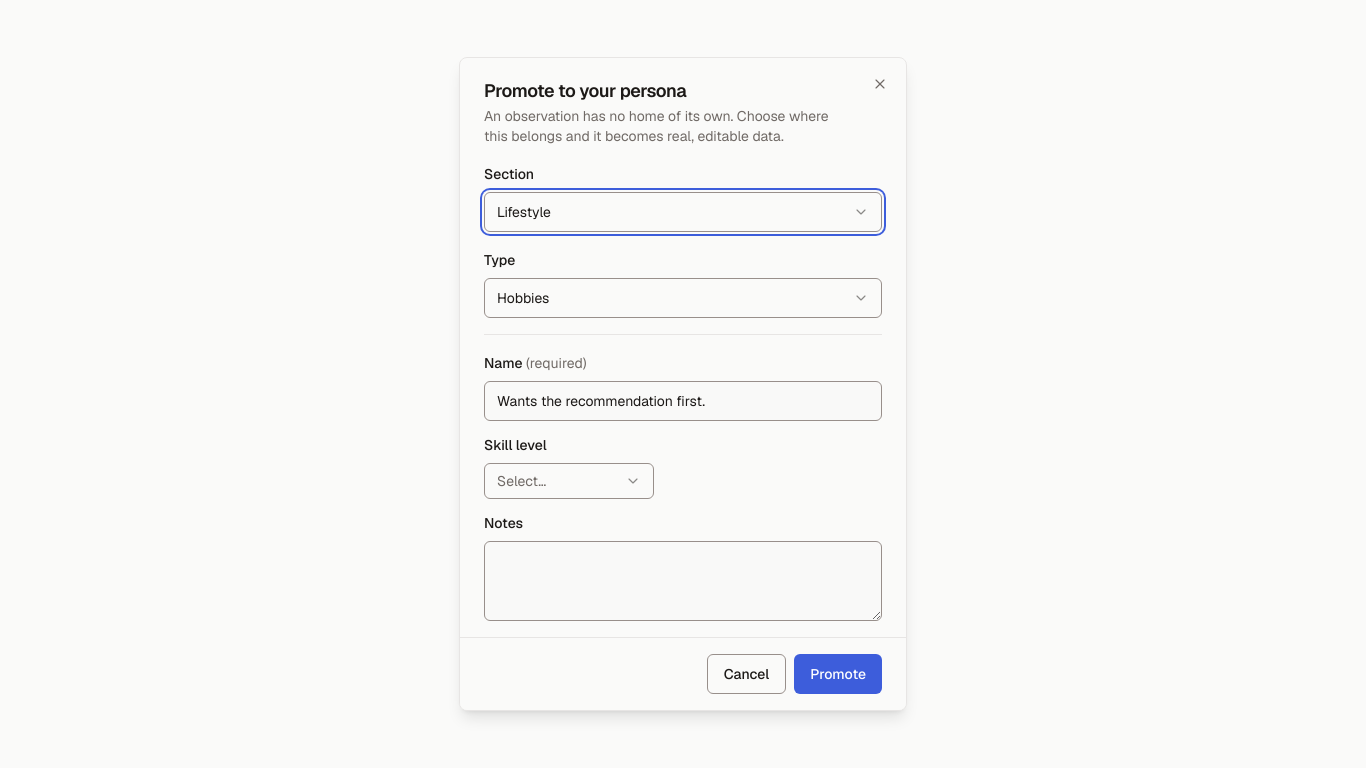
it: a Select inside the real Dialog › changing to a section with one type chooses it
Step 1. Click the dropdown named "section" → (524, 212), box [484,192,882,232]
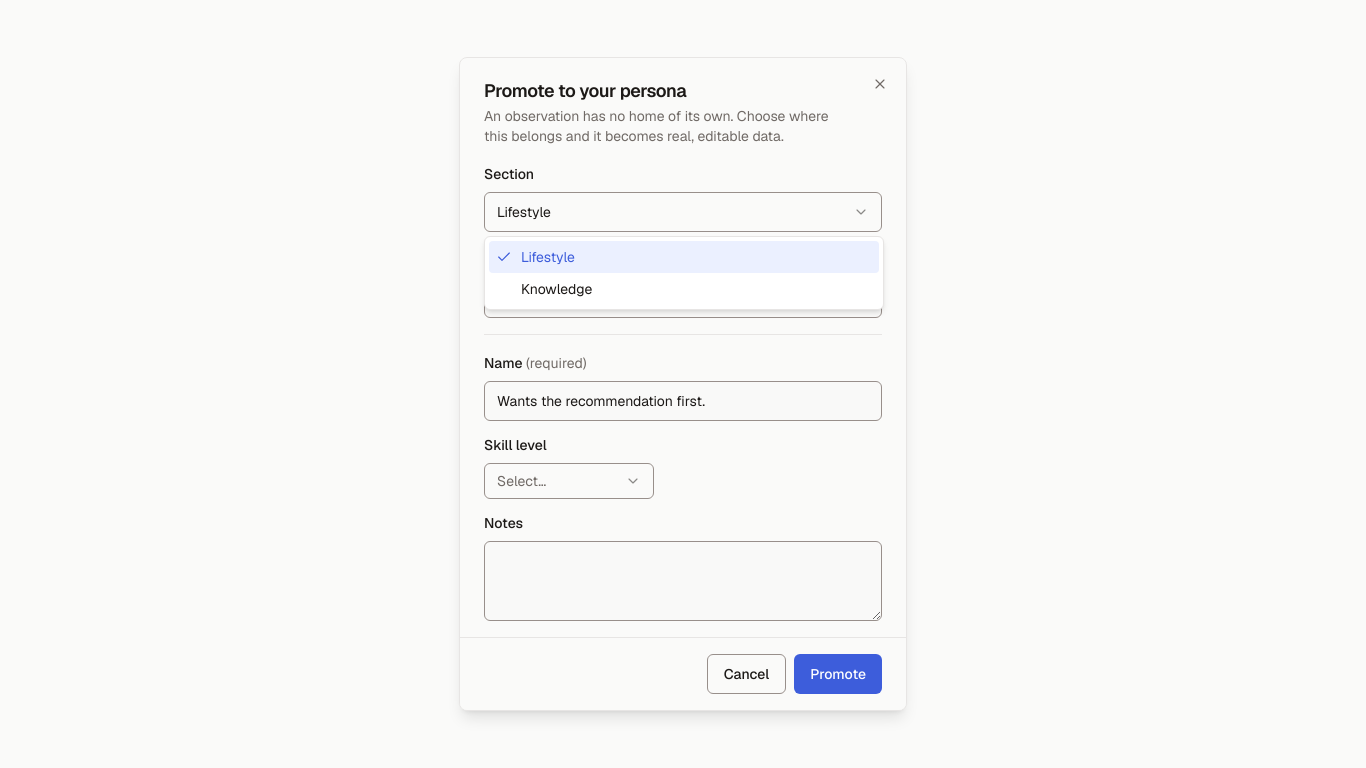
Step 2. Click the option "Knowledge" → (557, 289), box [521,280,592,298]
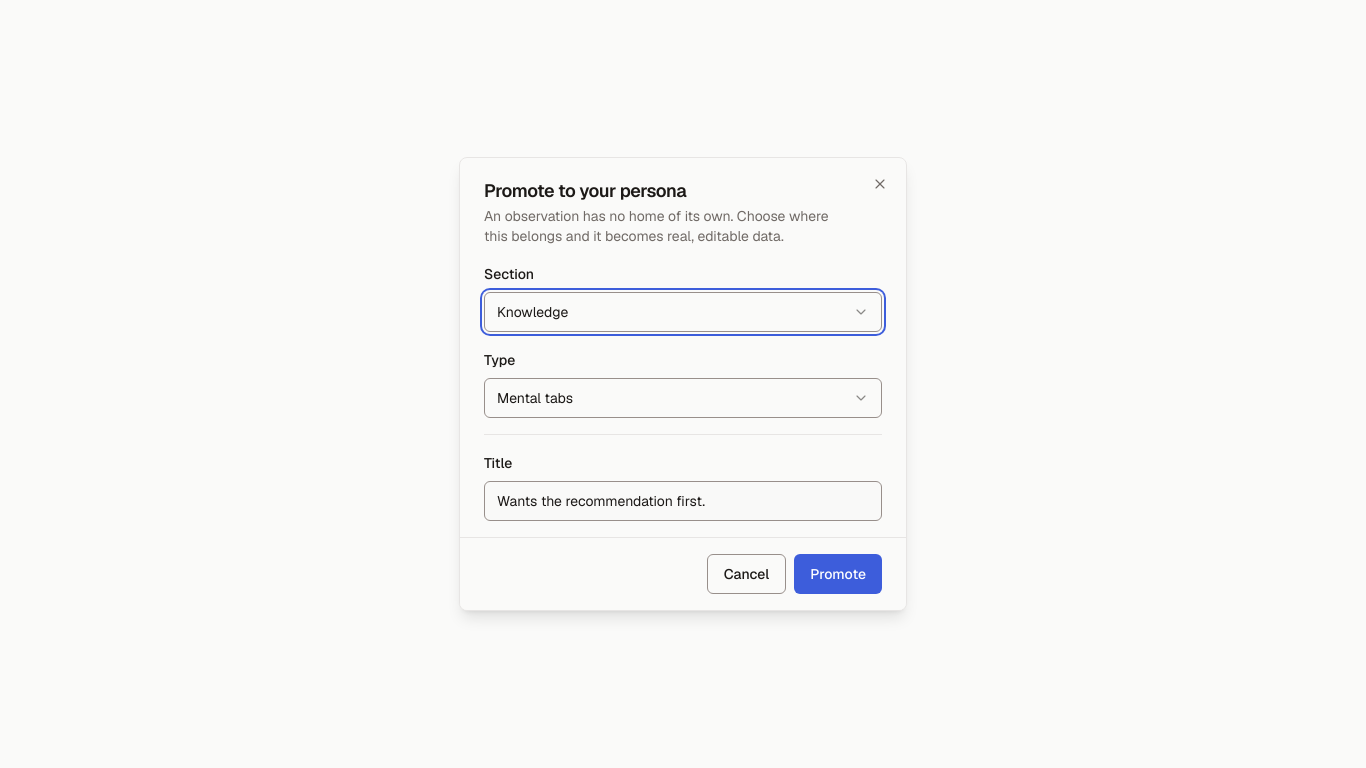
Check: the dropdown named "type" reads "Mental tabs", box [484,378,882,418]
Check: the field labelled "Title" is shown, box [484,481,882,521]
